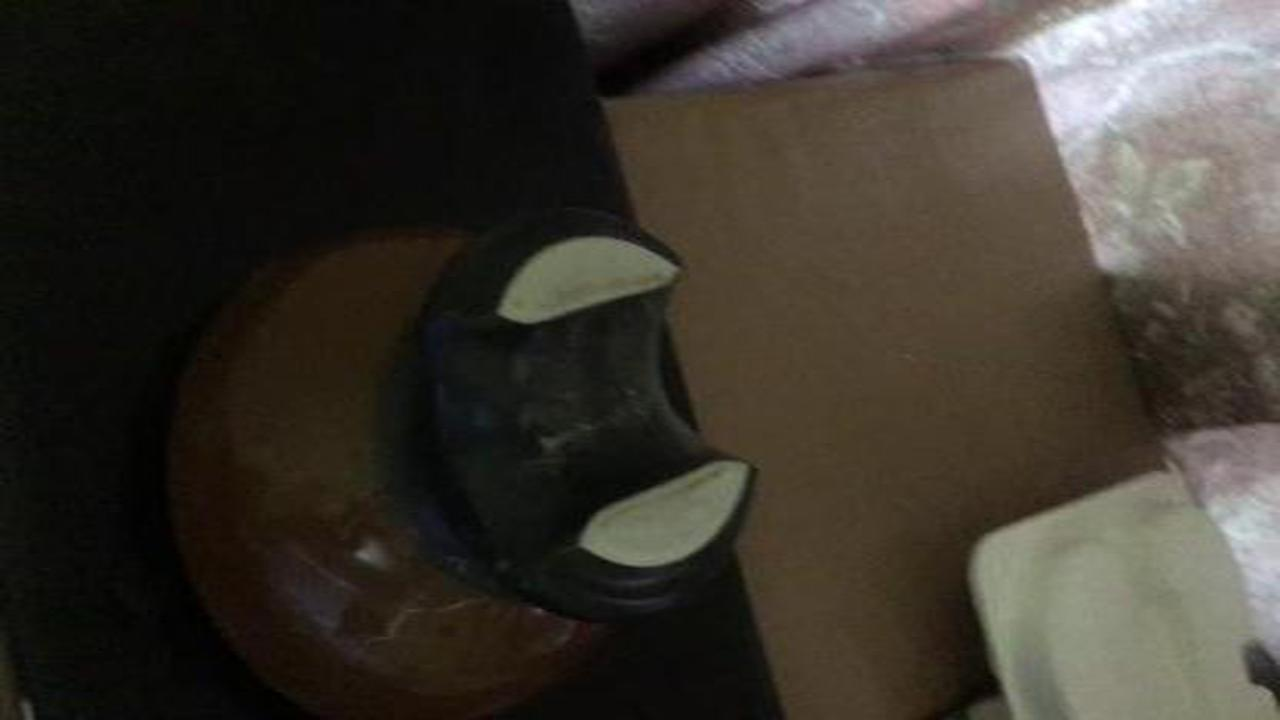insulator_pin: (136, 199, 764, 708)
